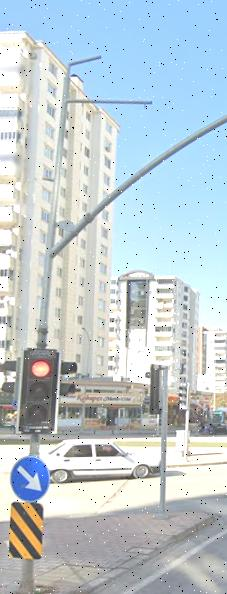redlight: (21, 346, 55, 435)
